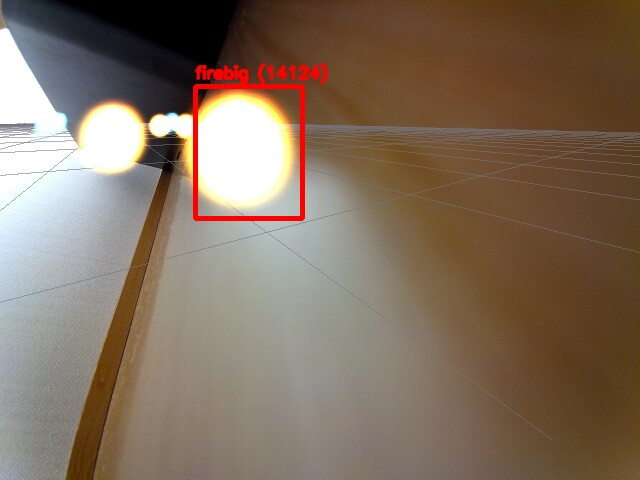firebig: (195, 86, 302, 218)
